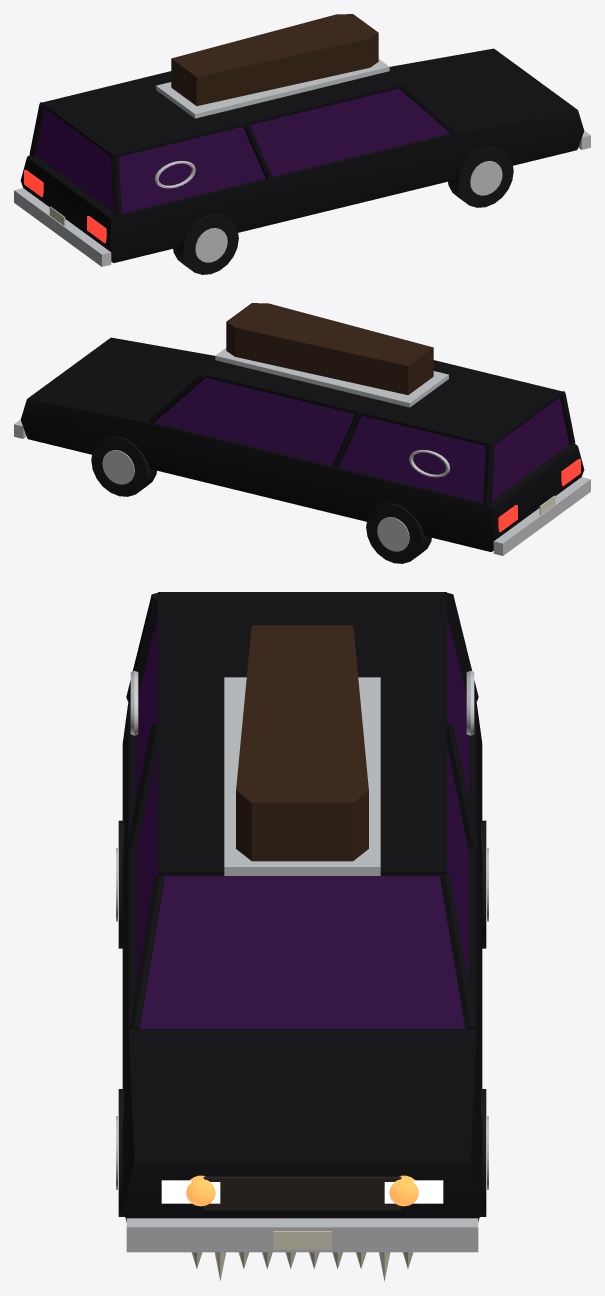
The model's file is SM_80s_Car_Hearse.glb.
3 renders of one model, top to bottom at view 1: azimuth 30°, elevation 25°; view 2: azimuth 150°, elevation 25°; view 3: azimuth 270°, elevation 25°, orthographic. The views are drawn at different scales.
Visible parts, largest first — view 1: SM_80s_Car_Hearse; view 2: SM_80s_Car_Hearse; view 3: SM_80s_Car_Hearse.
Boxes of the visible parts, left/top/right/bottom form: SM_80s_Car_Hearse: left=14, top=14, right=590, bottom=274; SM_80s_Car_Hearse: left=14, top=303, right=590, bottom=563; SM_80s_Car_Hearse: left=116, top=592, right=488, bottom=1281.
Size of the model in its own units: 5.8 by 1.9 by 1.91.
